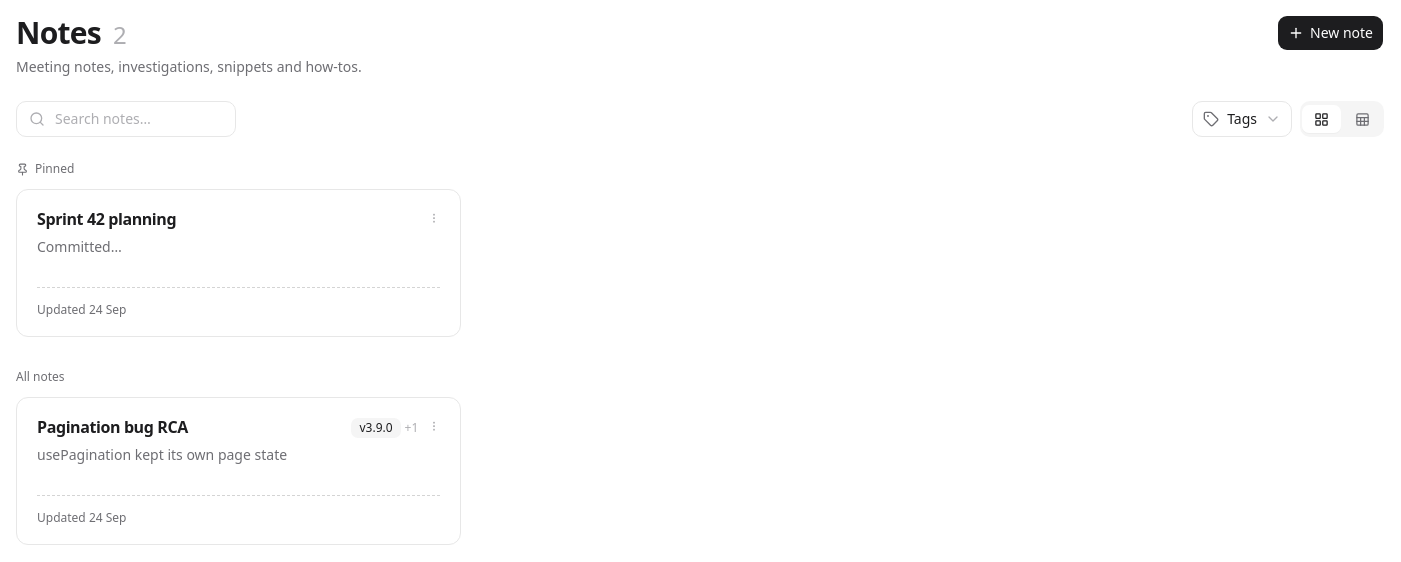
Test: NotesPage › switches to the table view through ?view=
Check: the heading "Sprint 42 planning" is shown, box [37, 208, 176, 230]
What coordinates should you click on to do the following:
click the 2nd radio button named "Table"
I would click on:
 (1362, 119)
Its box is [1343, 105, 1382, 133].
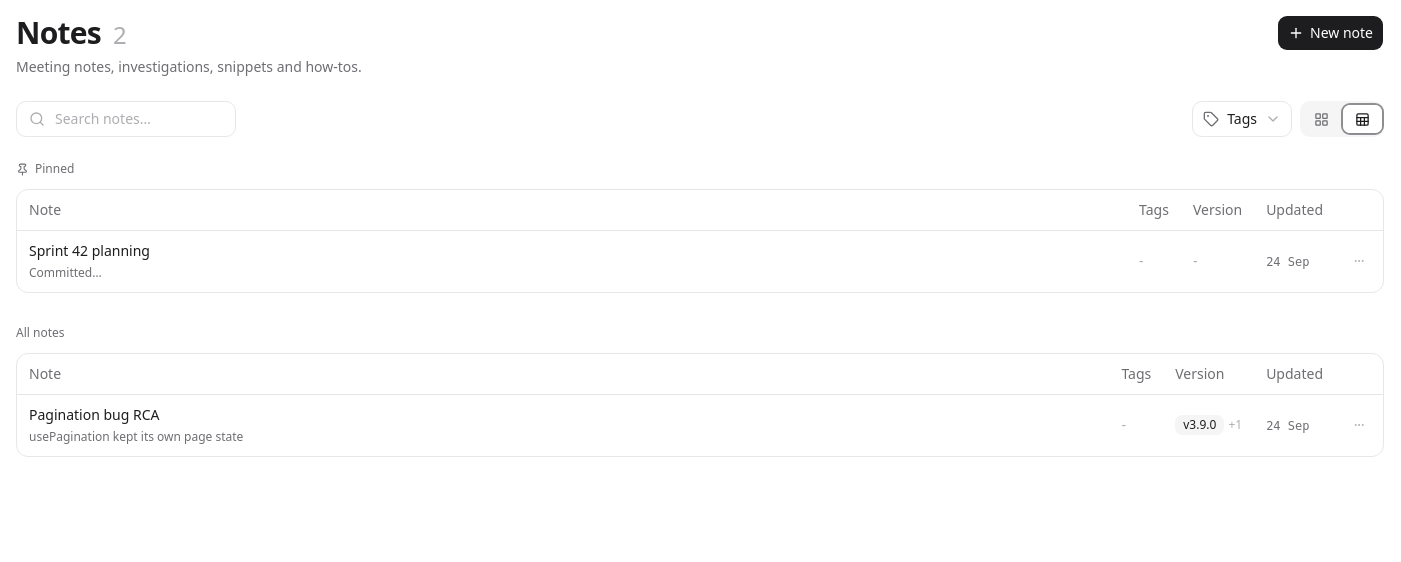
Check: the number of column headings "Note" is 2, box [17, 190, 1127, 230]; [17, 354, 1109, 394]
